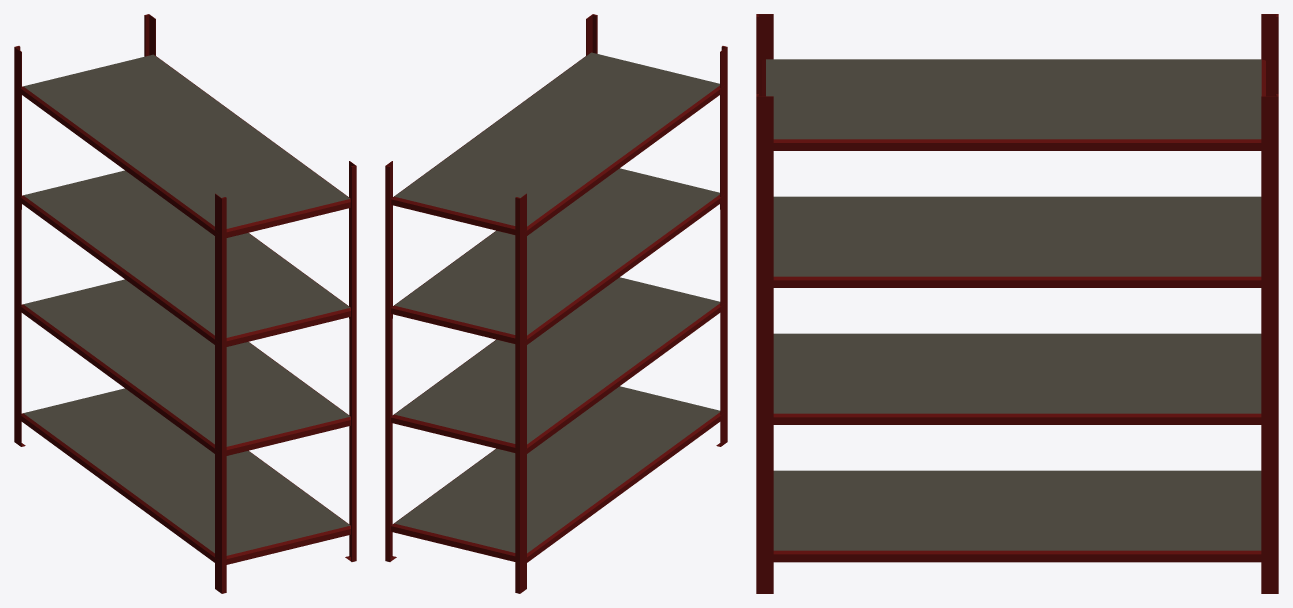
The model's file is Estanteria de almacenamineto.fbx.
3 views of the same model, side by side, from view 1: azimuth 30°, elevation 25°; view 2: azimuth 150°, elevation 25°; view 3: azimuth 270°, elevation 25° (orthographic). The views are drawn at different scales.
Parts seen in each view (by area): view 1: Estanteria de almacenamineto; view 2: Estanteria de almacenamineto; view 3: Estanteria de almacenamineto.
Boxes of the visible parts, x1,y1,x2,y2 form: Estanteria de almacenamineto: (14, 14, 356, 593); Estanteria de almacenamineto: (385, 14, 727, 593); Estanteria de almacenamineto: (756, 14, 1278, 593).
Bounding box in the file's own units: 150 × 420 × 400.
